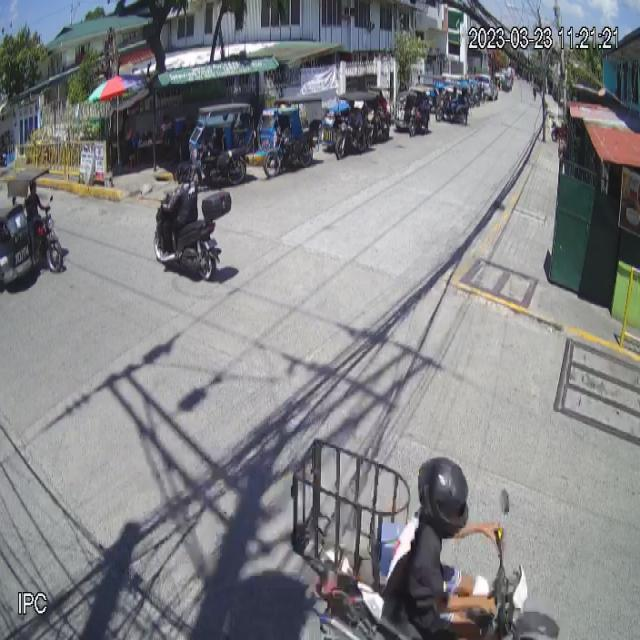Motorcycle: (152, 189, 233, 283)
Tricycle: (0, 168, 65, 292)
